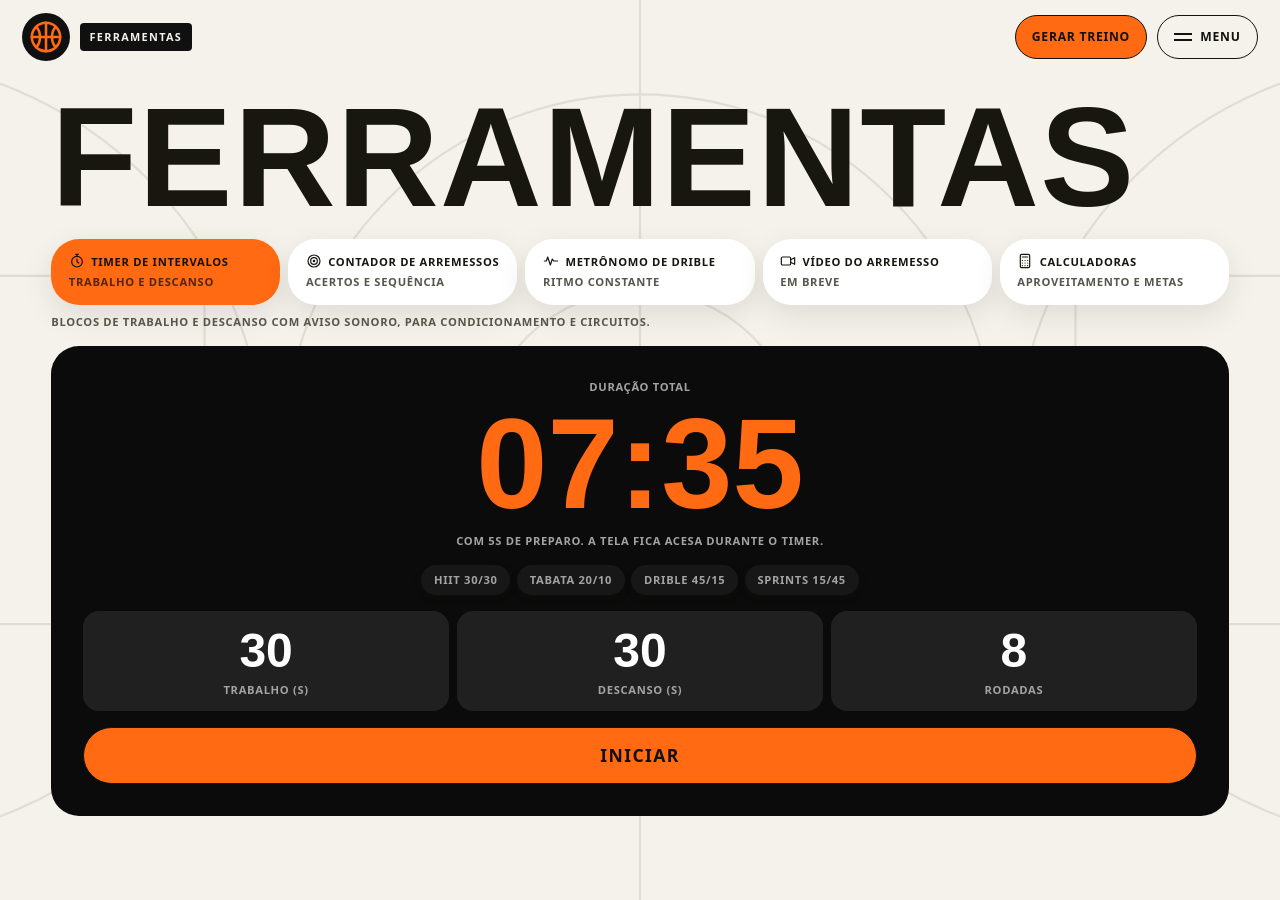
Test: Ferramentas: abas › abre no timer e troca de ferramenta pelas abas
Expected: the button "Iniciar" is shown, [83,727,1197,784]
Click the tab "Calculadoras Aproveitamento e metas" at point(1114, 272), box [1000,239,1229,305]
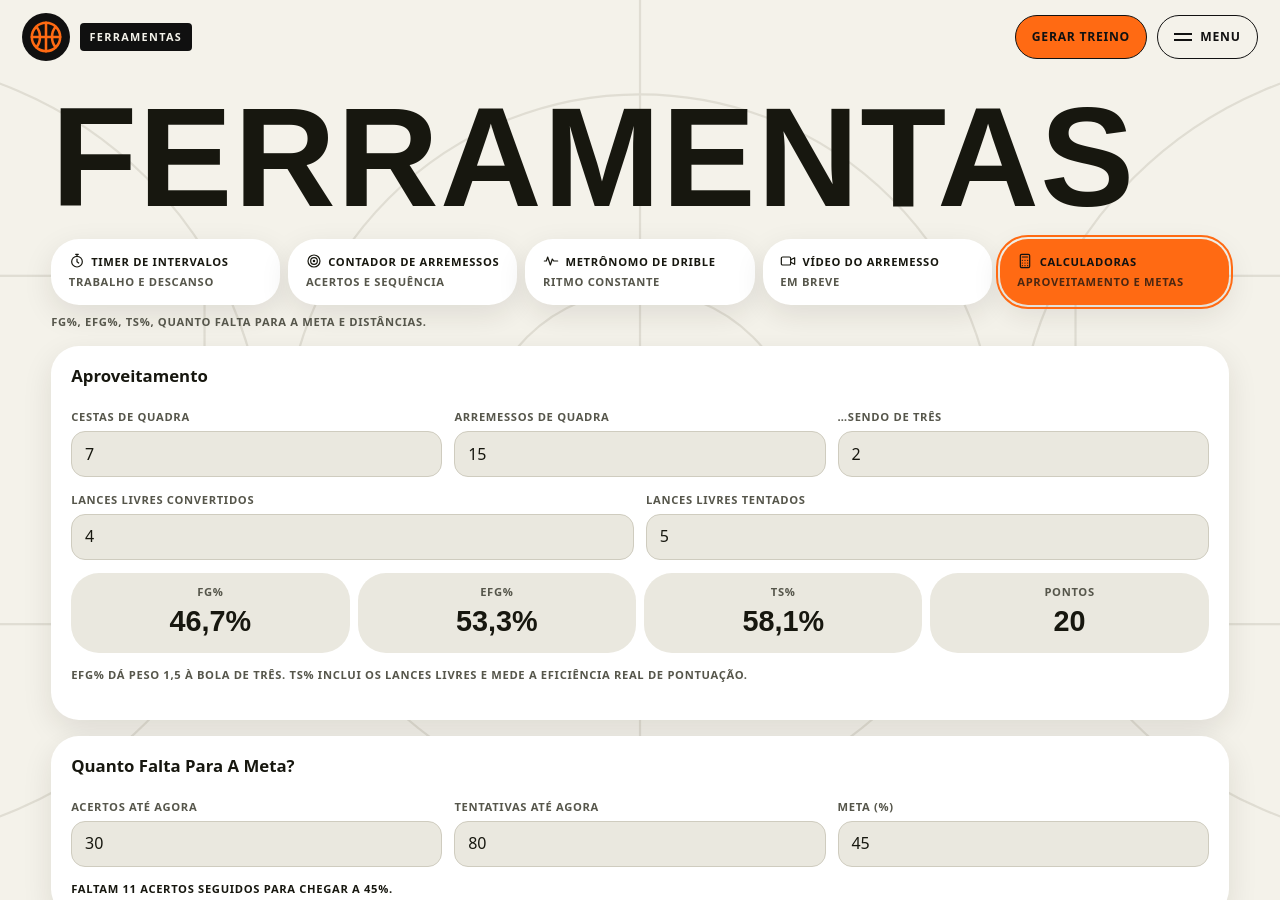
Expected: the heading "Aproveitamento" is shown, [71,364,208,387]
Expected: the text "FG%, eFG%, TS%, quanto falta para a meta e distâncias." is shown, [51,314,427,329]
Expected: the button "Iniciar" is gone
